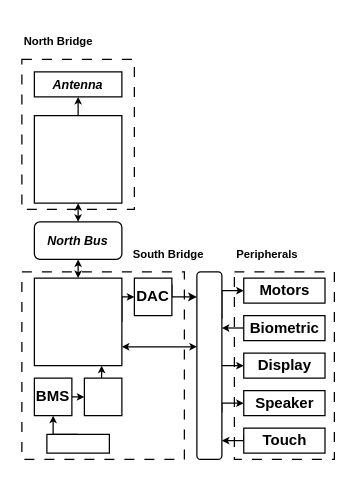
Some shapes in this 356 by 481 pixel diagram are drawn without their labels. The centre of each missing label's shape, as x and y in pixels:
"ESP32" belongs at point (77, 158).
"REG" belongs at point (102, 396).
"South Bus" belongs at point (209, 365).
"STM32" belongs at point (77, 321).
"USBC" belongs at point (77, 443).
